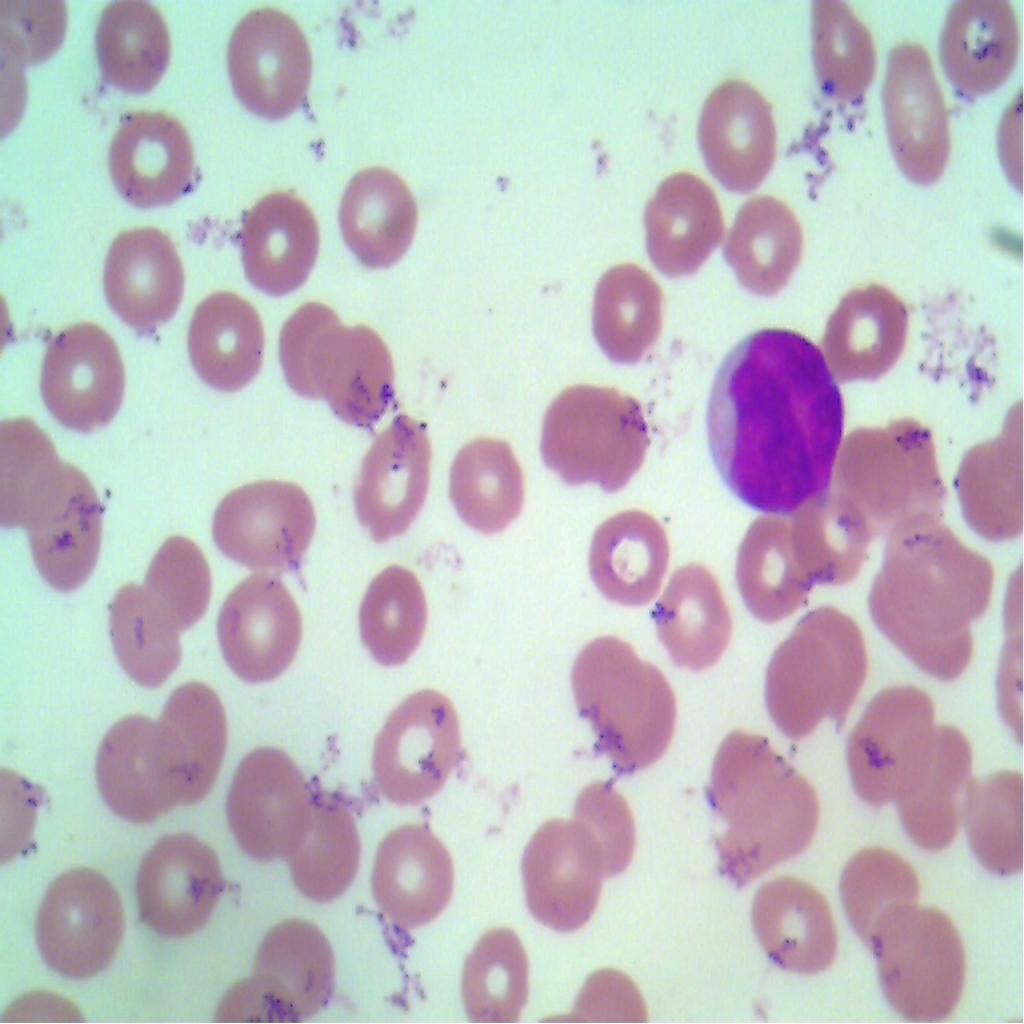Eritrosit: (715, 730, 824, 872), (212, 2, 318, 132), (868, 568, 975, 696), (684, 64, 786, 192), (881, 505, 990, 624), (540, 375, 646, 494), (370, 678, 464, 808), (871, 903, 971, 1022), (31, 862, 133, 978), (350, 406, 433, 548), (208, 474, 322, 577), (102, 111, 203, 224), (748, 875, 846, 991), (335, 159, 428, 280), (210, 575, 312, 685), (844, 676, 930, 806), (36, 317, 129, 435), (641, 158, 730, 278), (132, 829, 226, 942), (228, 184, 326, 292), (888, 40, 958, 191), (846, 408, 938, 522), (28, 462, 108, 592), (814, 266, 908, 376), (279, 790, 366, 908), (438, 431, 532, 539), (93, 712, 183, 824), (252, 905, 338, 1022), (835, 844, 926, 954), (518, 812, 602, 931), (86, 0, 189, 97), (586, 254, 679, 361), (896, 719, 971, 851), (101, 224, 193, 331), (272, 294, 358, 406), (370, 829, 470, 925), (154, 678, 231, 801), (182, 284, 268, 394), (224, 741, 310, 850), (591, 495, 673, 607), (721, 194, 808, 299), (654, 555, 732, 672), (106, 575, 186, 688), (556, 768, 638, 877), (799, 0, 882, 105), (322, 322, 400, 431), (603, 665, 678, 771), (354, 559, 430, 663), (0, 415, 69, 528), (951, 434, 1023, 542), (798, 604, 868, 714), (794, 487, 868, 588), (938, 0, 1014, 98), (734, 512, 808, 611), (770, 625, 834, 735), (143, 532, 215, 628), (460, 920, 526, 1023), (966, 764, 1024, 874), (566, 628, 635, 717)
Limfoblast: (694, 324, 855, 518)
